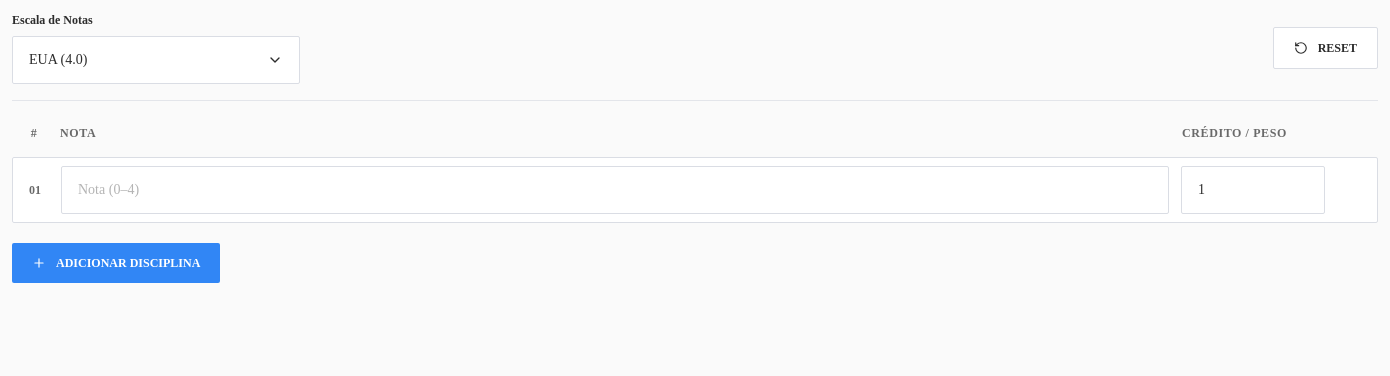
Test: Education Tools Components › AppGpaCalculator › supports adding and removing courses in semester mode
Click the button "Adicionar Disciplina" at (116, 263), box left=12, top=243, right=220, bottom=283
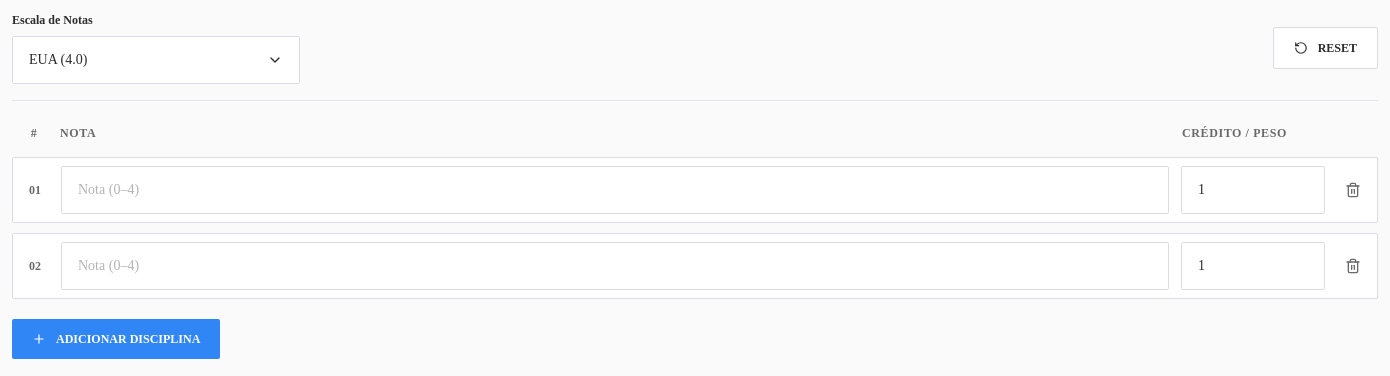
Result: the number of number fields with placeholder "Nota (0–4)" is 2 at left=61, top=166, right=1169, bottom=214; left=61, top=242, right=1169, bottom=290
Click the button titled "Remover" in the row of "01" at (1353, 190), box left=1337, top=174, right=1369, bottom=206
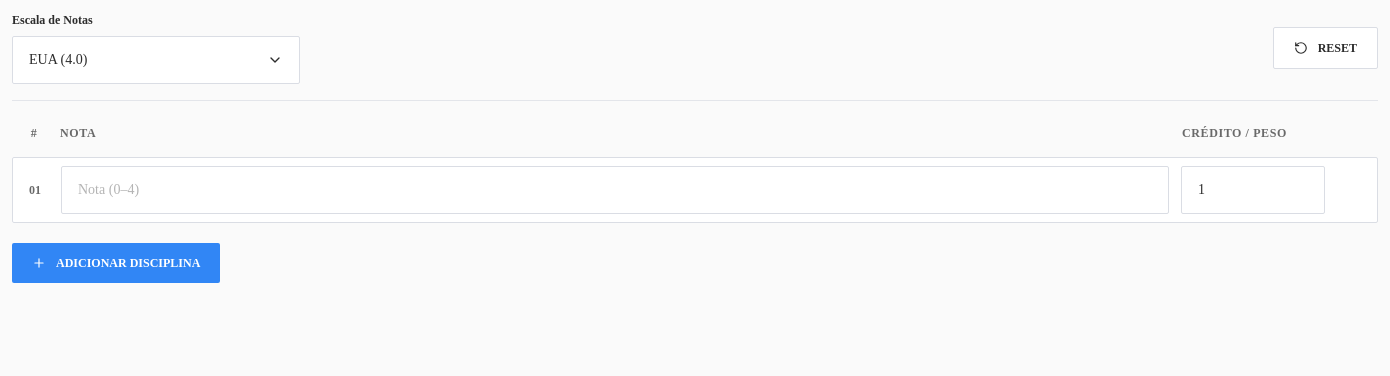
Result: the number of number fields with placeholder "Nota (0–4)" is 1 at left=61, top=166, right=1169, bottom=214
